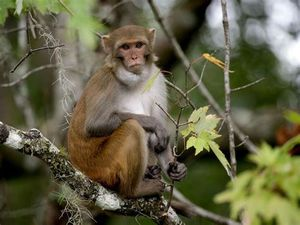monkey: (78, 15, 194, 187)
